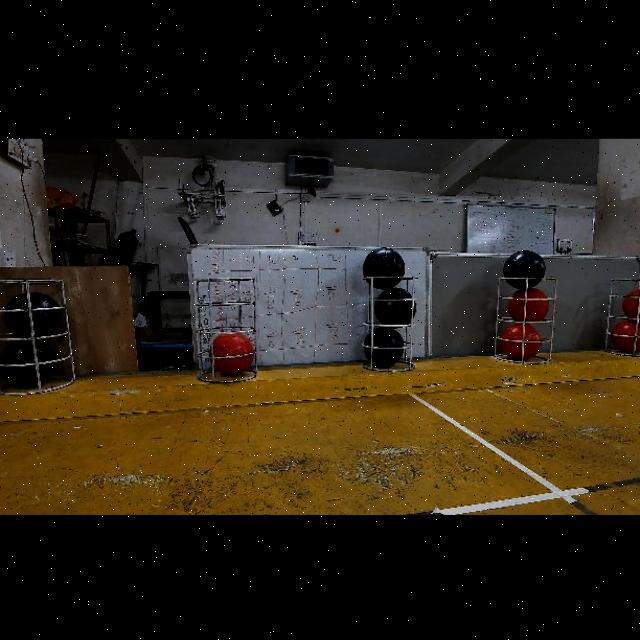P: (0, 338, 59, 388), (4, 291, 64, 336), (362, 246, 405, 289), (363, 326, 405, 368), (503, 250, 546, 289), (374, 287, 417, 324)
R: (214, 332, 255, 375), (500, 323, 542, 360), (507, 288, 549, 321), (612, 319, 640, 352), (622, 288, 640, 318)
S: (190, 276, 264, 386), (488, 266, 560, 362), (356, 270, 422, 372), (600, 272, 640, 358), (74, 271, 76, 273)
